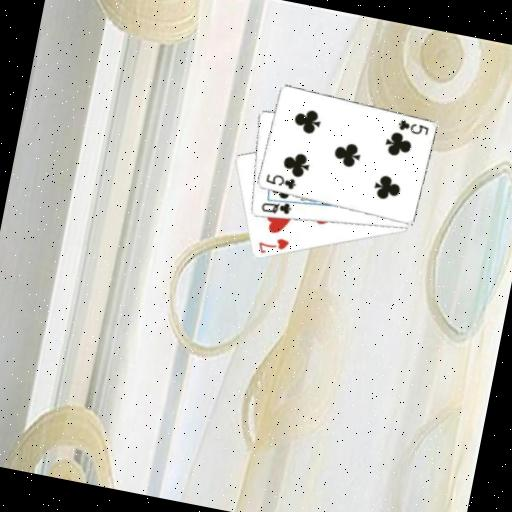5C: (261, 169, 299, 192), (393, 115, 431, 138)
7H: (254, 231, 292, 260)
QC: (257, 196, 294, 219)
